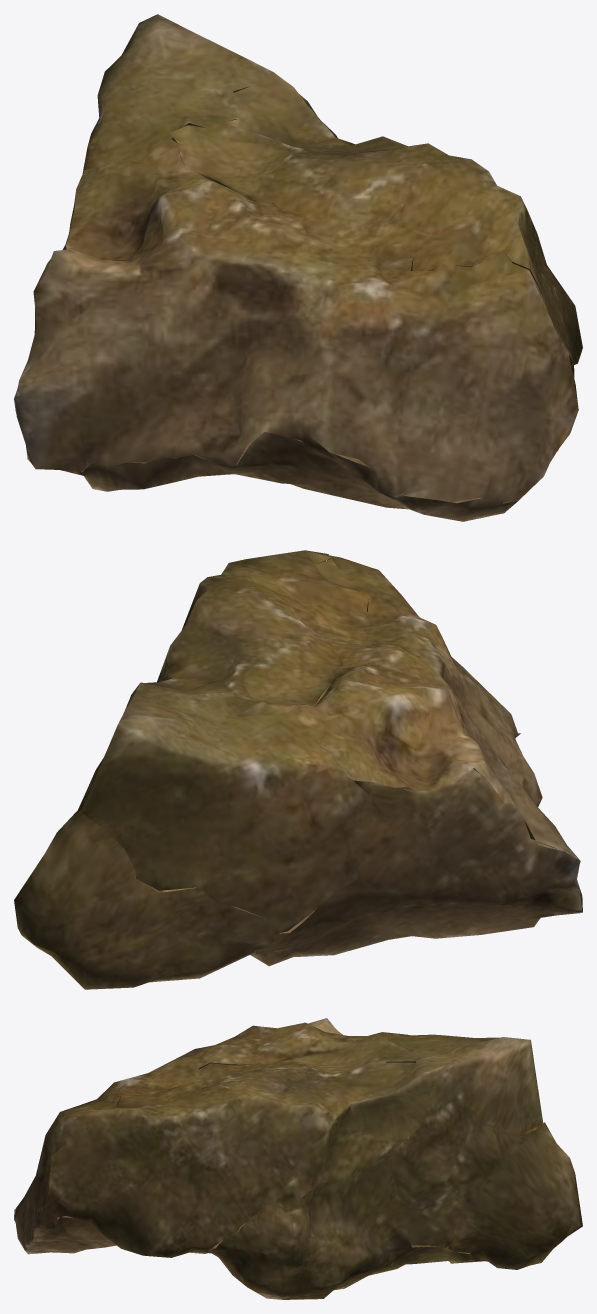
Rendered from rock_moss_set_01_6.glb.
3 views of the same model, one above another, from view 1: azimuth 30°, elevation 25°; view 2: azimuth 150°, elevation 25°; view 3: azimuth 270°, elevation 25° (orthographic). The views are drawn at different scales.
Visible parts, largest first — view 1: rock_moss_set_01_rock06; view 2: rock_moss_set_01_rock06; view 3: rock_moss_set_01_rock06.
Part boxes in pixels (x1,y1,x2,y2): rock_moss_set_01_rock06: (14,14,582,521); rock_moss_set_01_rock06: (14,550,582,989); rock_moss_set_01_rock06: (14,1018,582,1299).
Bounding box in the file's own units: 2.14 × 1.25 × 2.77.
Materials: 1 (1 with a texture image).
